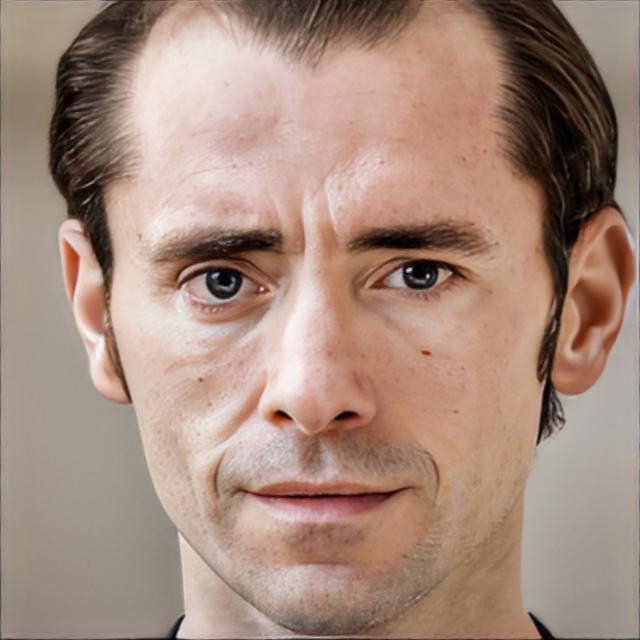anger: (117, 56, 540, 628)
